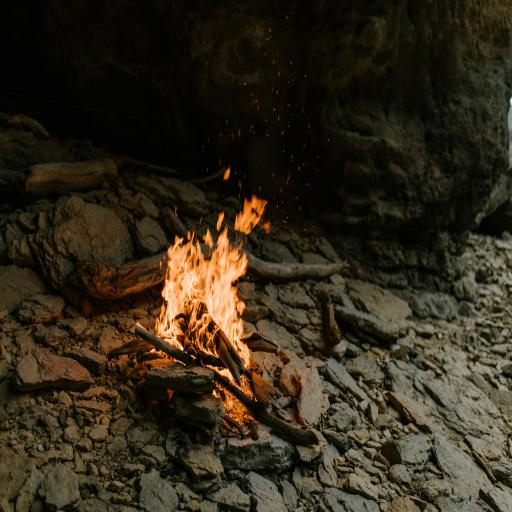campfire: (117, 206, 324, 459)
